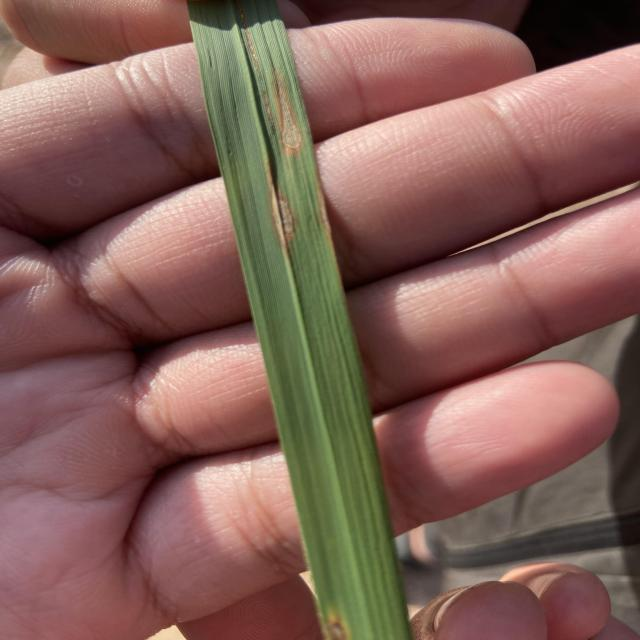Dao on: (273, 73, 303, 157), (269, 184, 295, 252), (318, 186, 331, 233)
